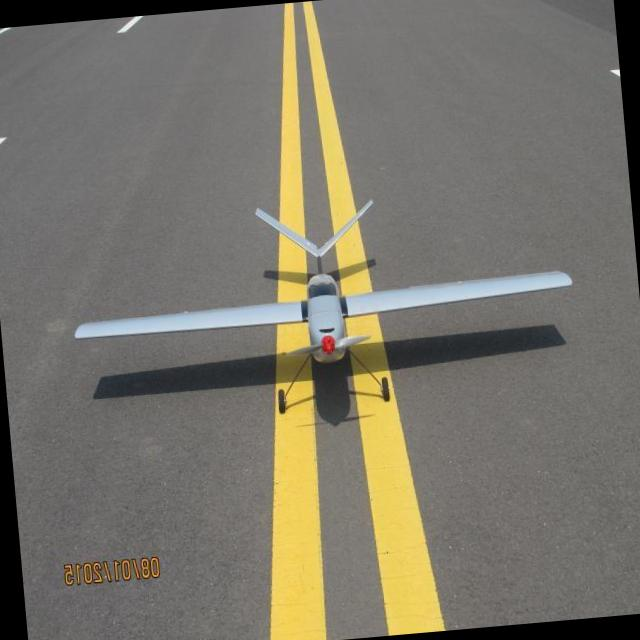UAV: (80, 225, 594, 416)
